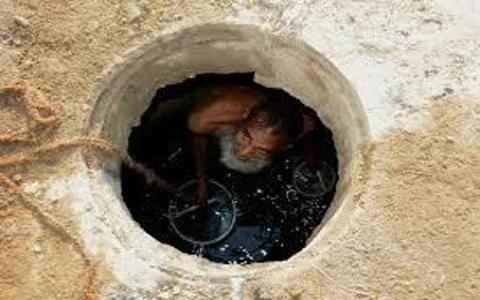open manhole: (66, 18, 398, 267)
